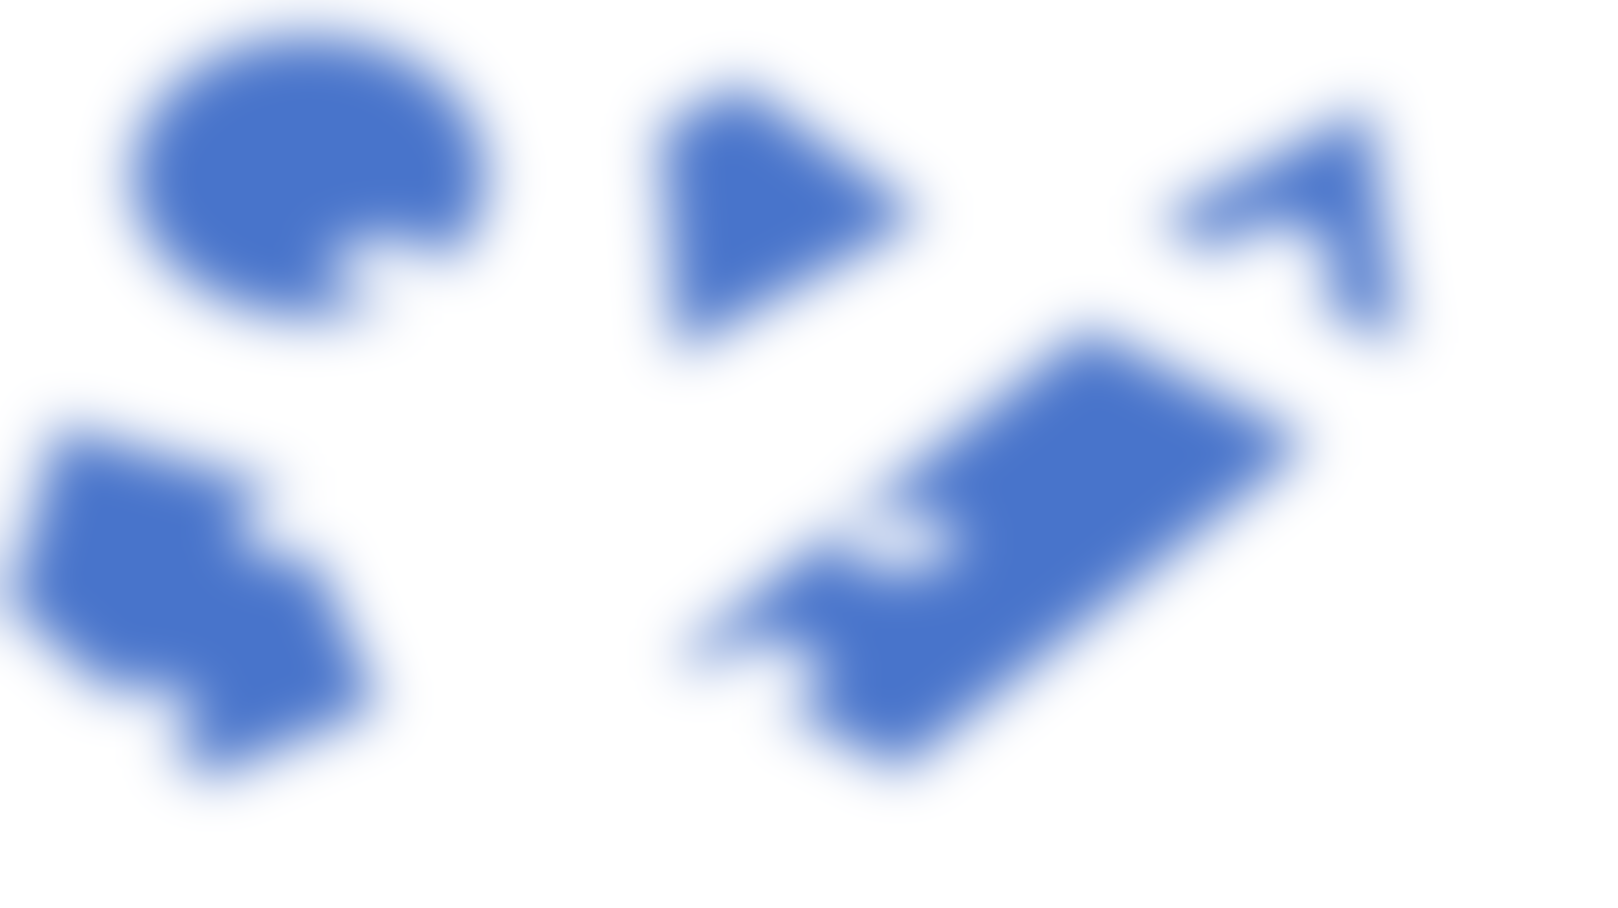circle: (104, 18, 501, 335)
parallelogram: (651, 325, 1324, 806)
pentagon: (8, 413, 390, 804)
trapezium: (625, 60, 929, 362)
triangle: (1183, 103, 1414, 355)
